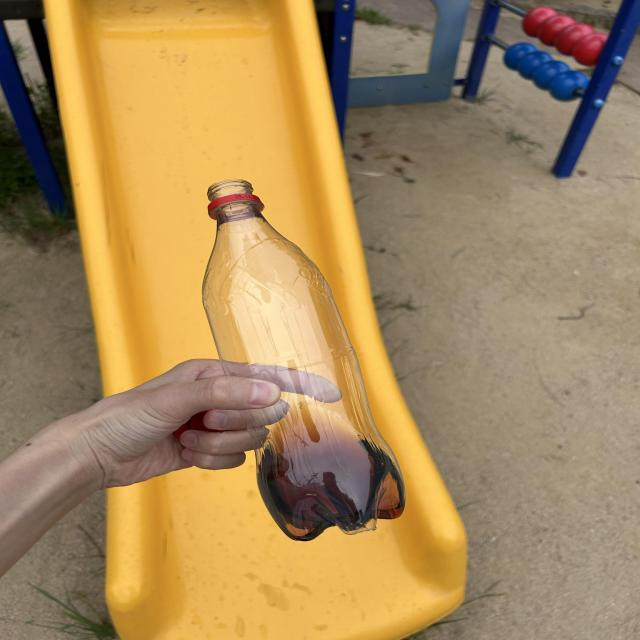low: (203, 215, 404, 541)
